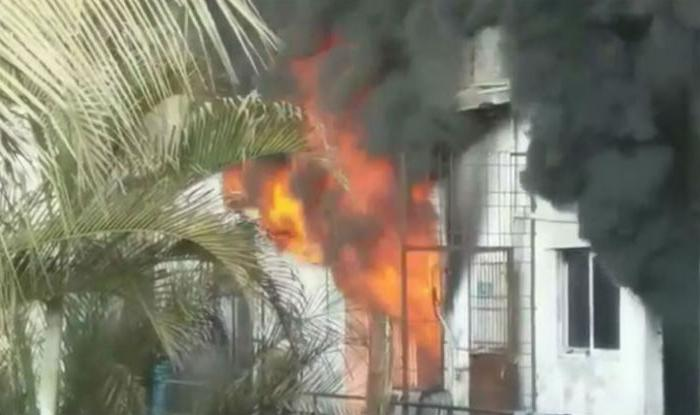fire: (230, 68, 449, 365)
